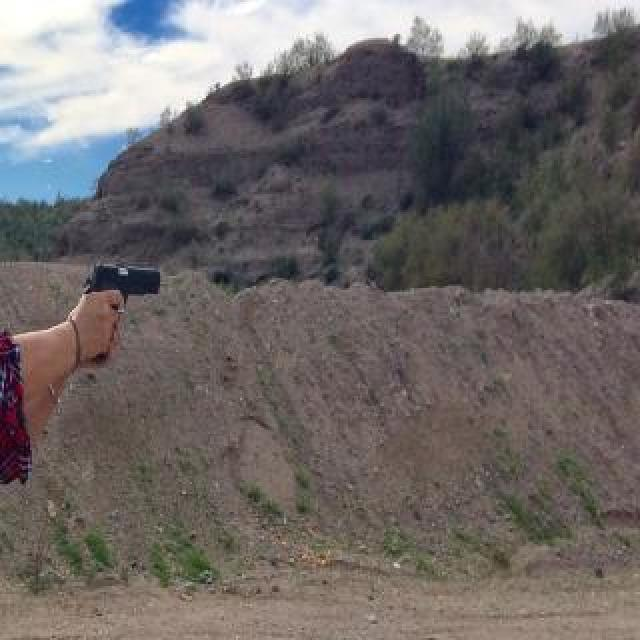Guns: (74, 250, 167, 371)
